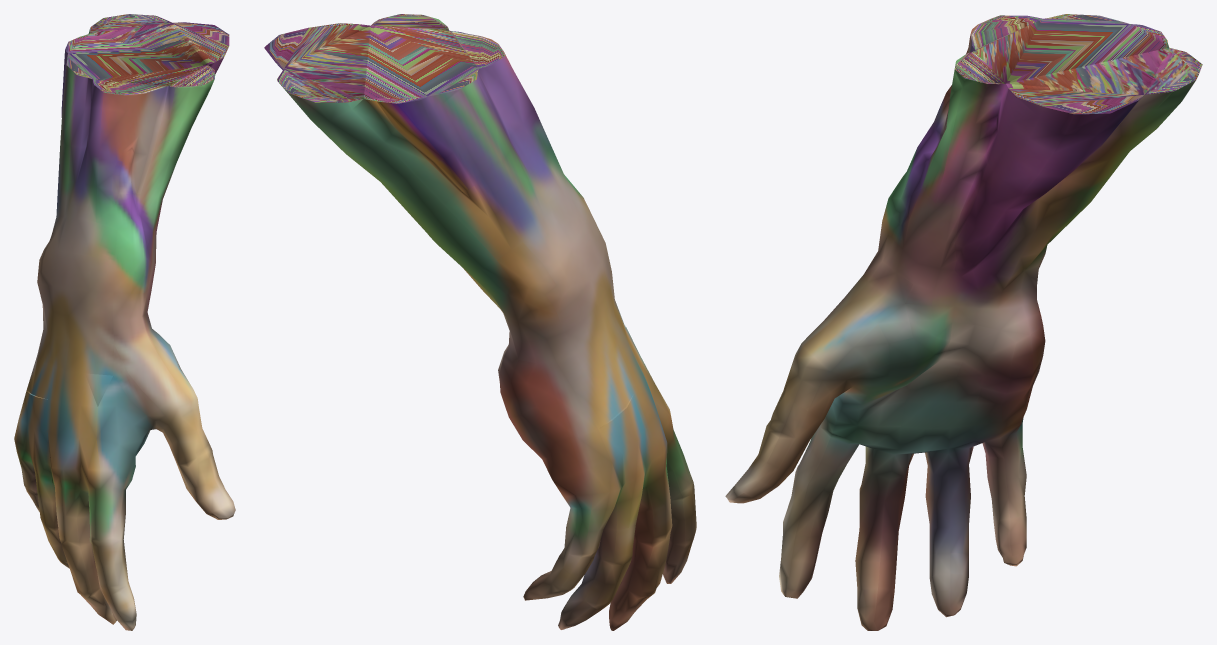
Rendered from derived-anatomy-right-forearm.glb.
The picture shows the model from 3 angles, left to right: view 1: azimuth 30°, elevation 25°; view 2: azimuth 150°, elevation 25°; view 3: azimuth 270°, elevation 25°; orthographic projection. The views are drawn at different scales.
Parts seen in each view (by area): view 1: derived-anatomy-right-forearm; view 2: derived-anatomy-right-forearm; view 3: derived-anatomy-right-forearm.
Part boxes in pixels (<box>): derived-anatomy-right-forearm: <box>14,14,235,630</box>; derived-anatomy-right-forearm: <box>264,14,696,630</box>; derived-anatomy-right-forearm: <box>725,14,1202,630</box>.
Bounding box in the file's own units: 0.1579 × 0.3016 × 0.2033.
Materials: 1 (1 with a texture image).
